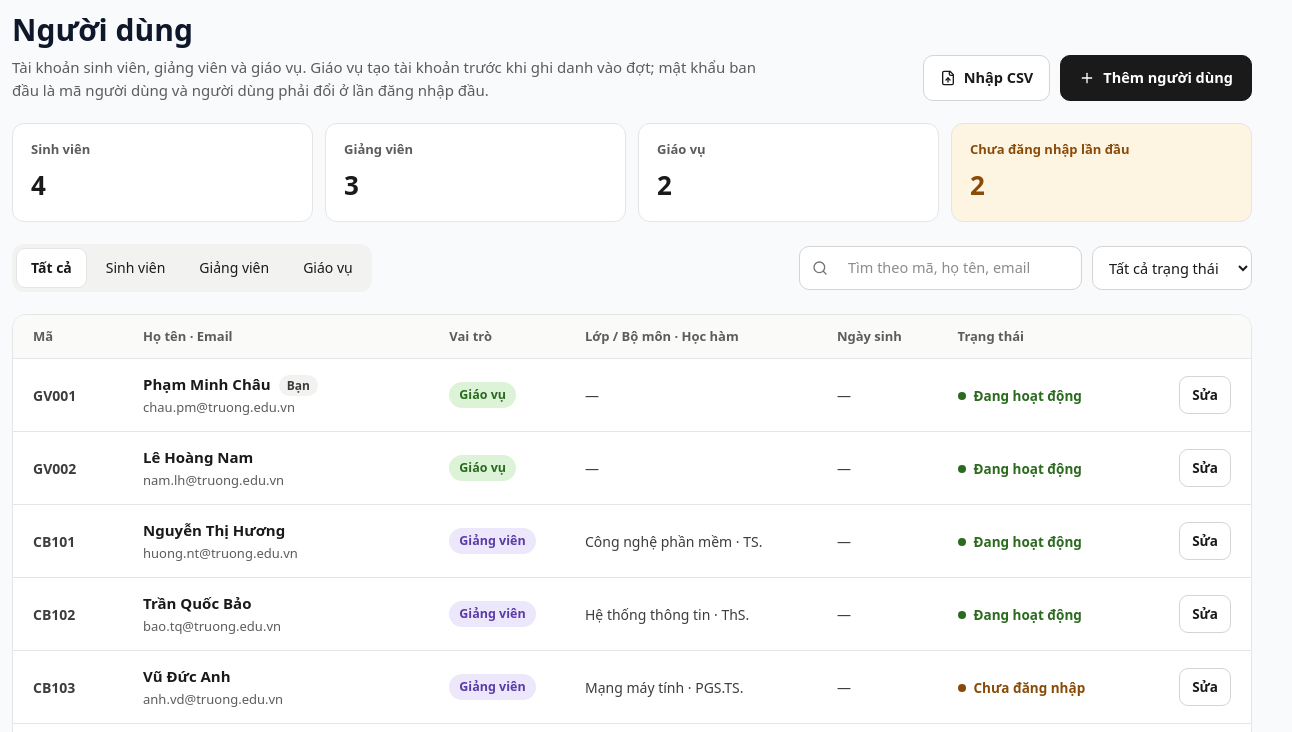
Scenario: lists users and filters by role, status and search
Expected: the text "Bạn" is shown, [279,375,318,396]
Click the button "Giảng viên" at (234, 268), box [184,248,284,288]
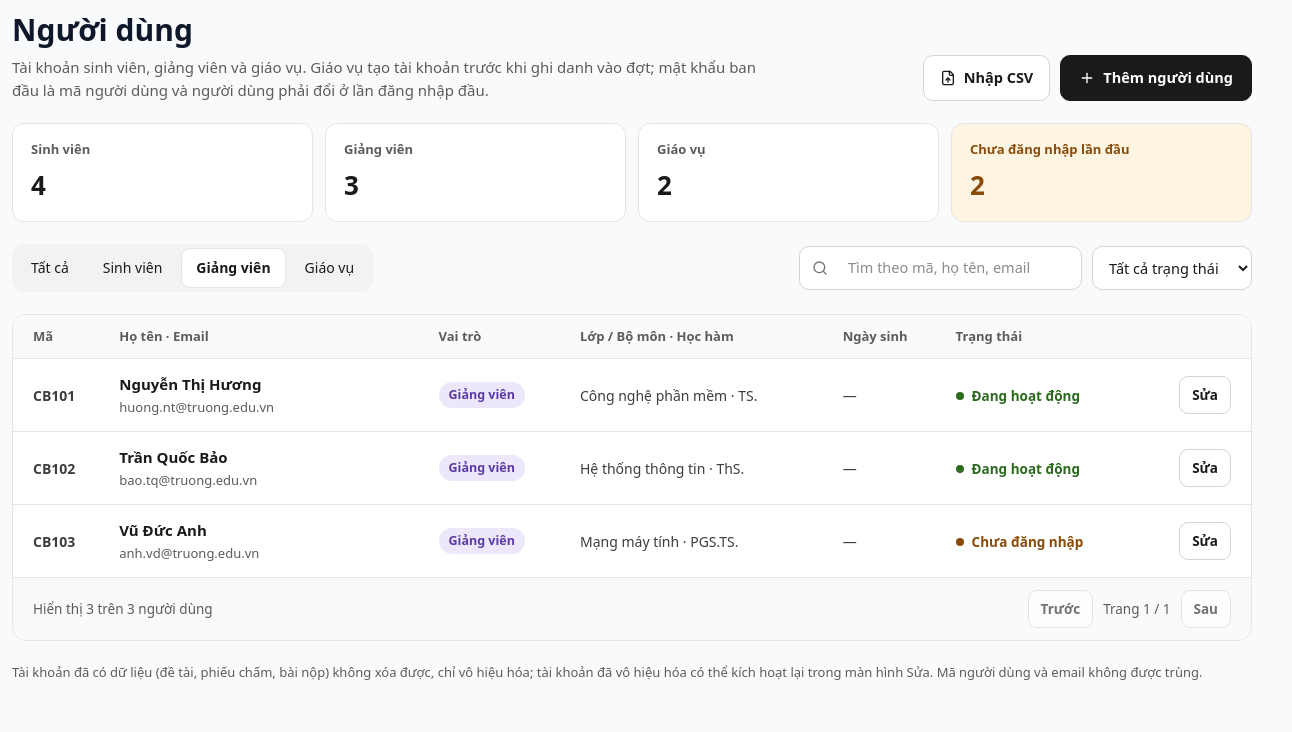
Expected: the text "Nguyễn Thị Hương" is shown, [119,374,261,394]
Click the button "Tất cả" at (50, 268), box [16,248,84,288]
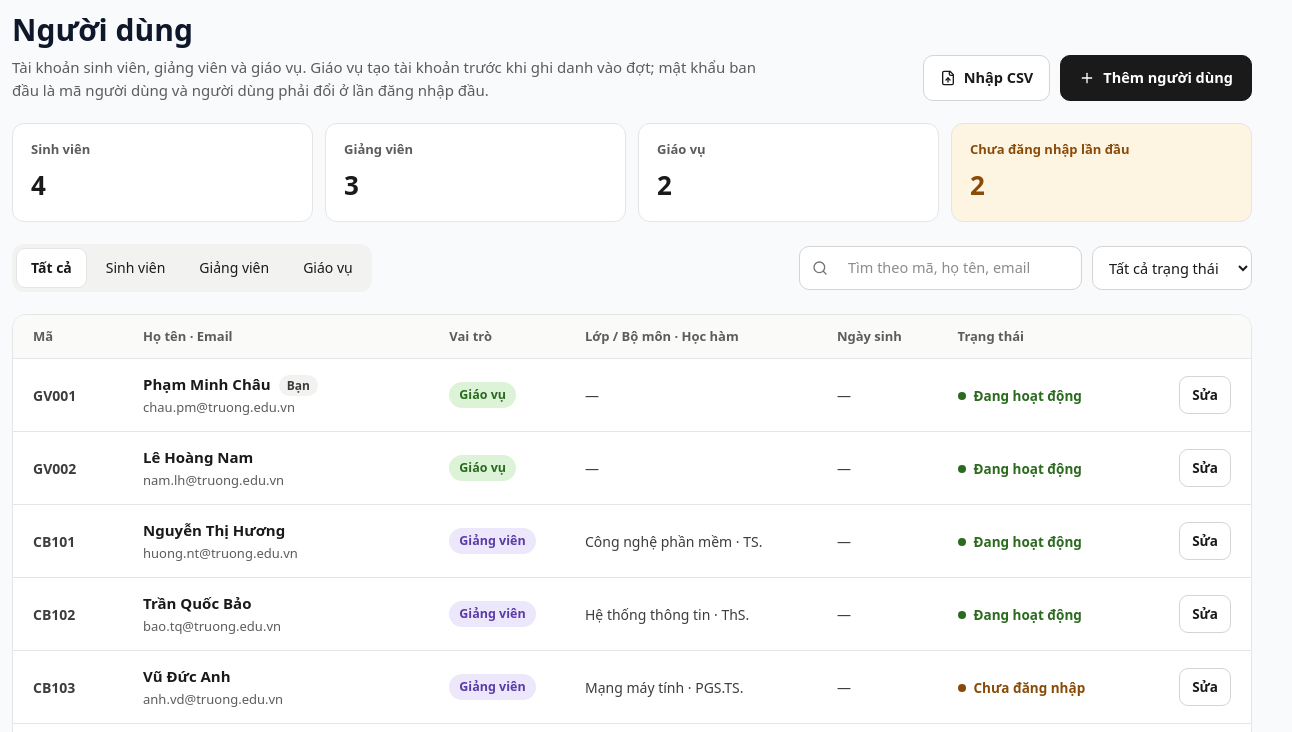
Select "Đã vô hiệu hóa" in the dropdown named "Trạng thái tài khoản" at (1172, 268), box [1092,246,1252,290]
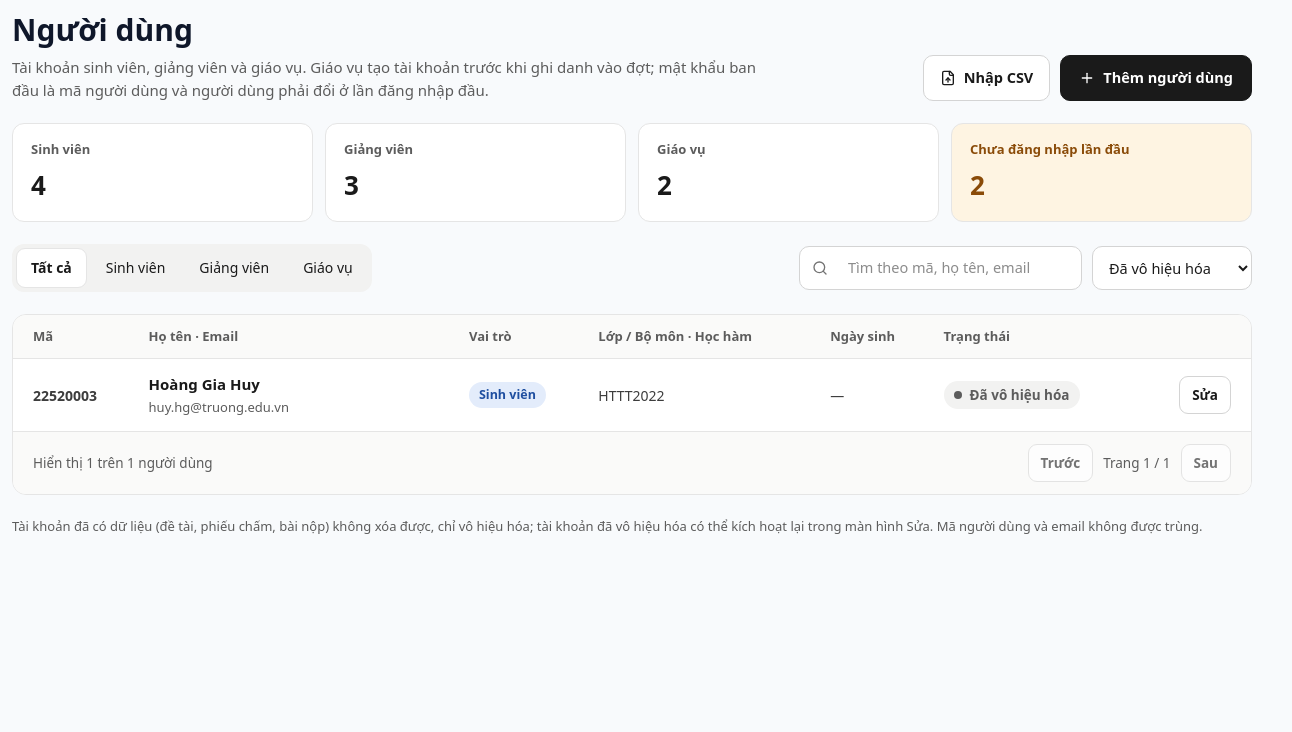
Now the text "Hoàng Gia Huy" is shown, box [149,374,260,394]
Select "Tất cả trạng thái" in the dropdown named "Trạng thái tài khoản" at (1172, 268), box [1092,246,1252,290]
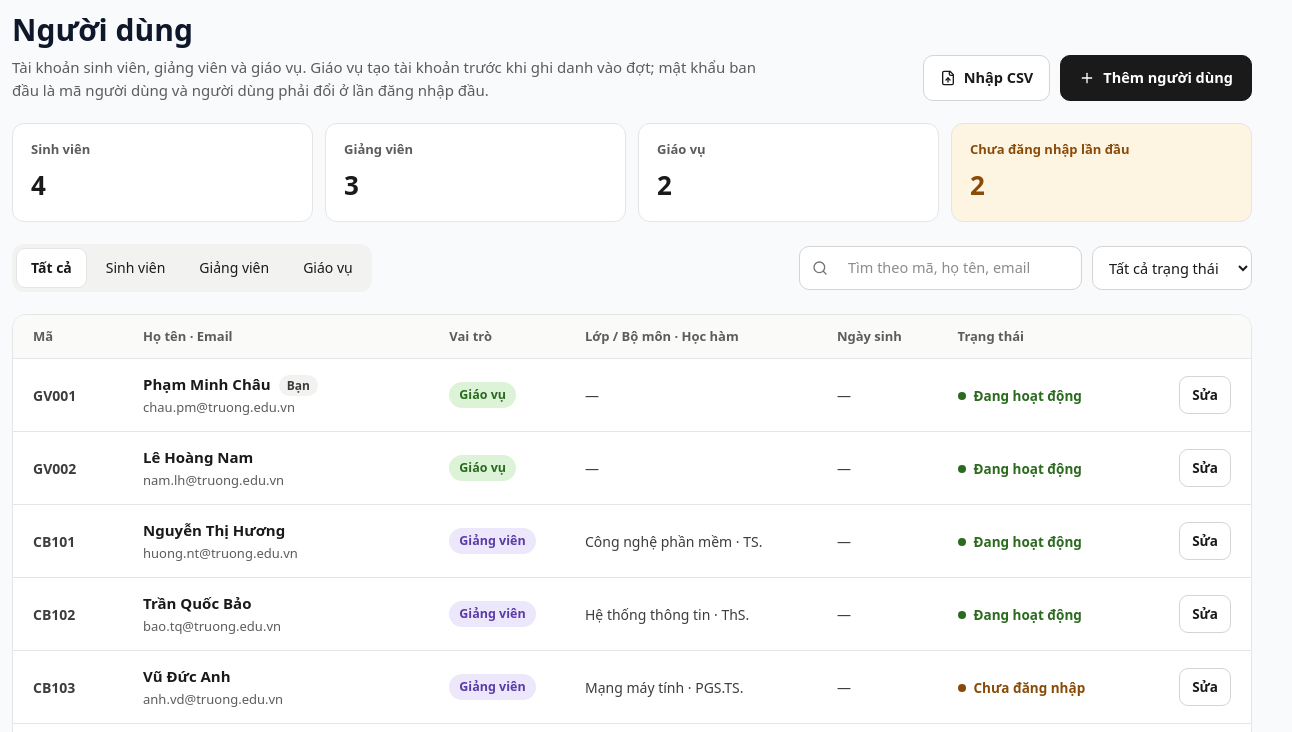
Type "khong-co-ai" into the search field named "Tìm người dùng" at (952, 268), box [836,249,1069,286]
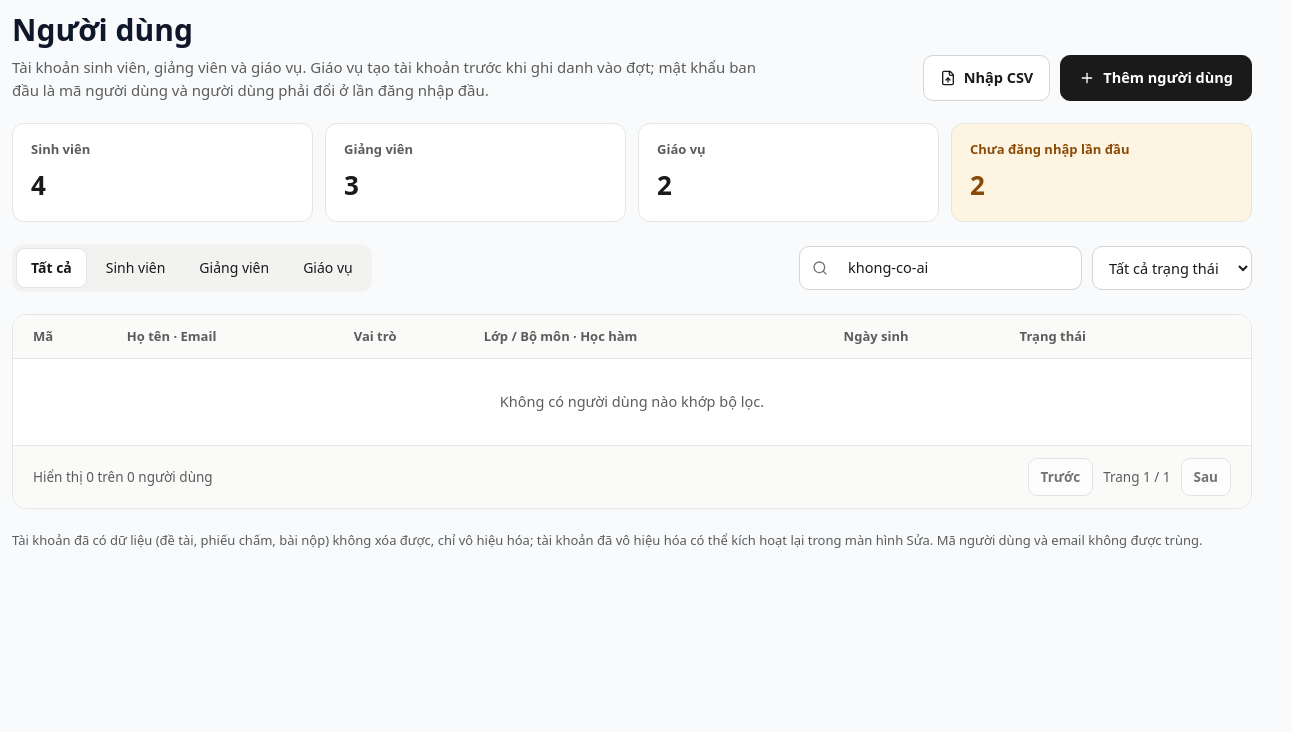
Now the text "Không có người dùng nào khớp bộ lọc." is shown, box [13,358,1251,445]
